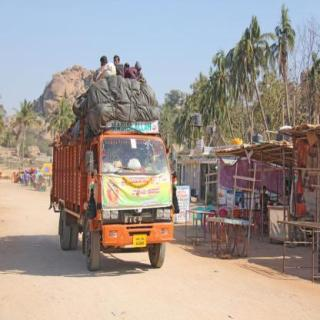Normal_vehicle: (49, 113, 178, 270)
